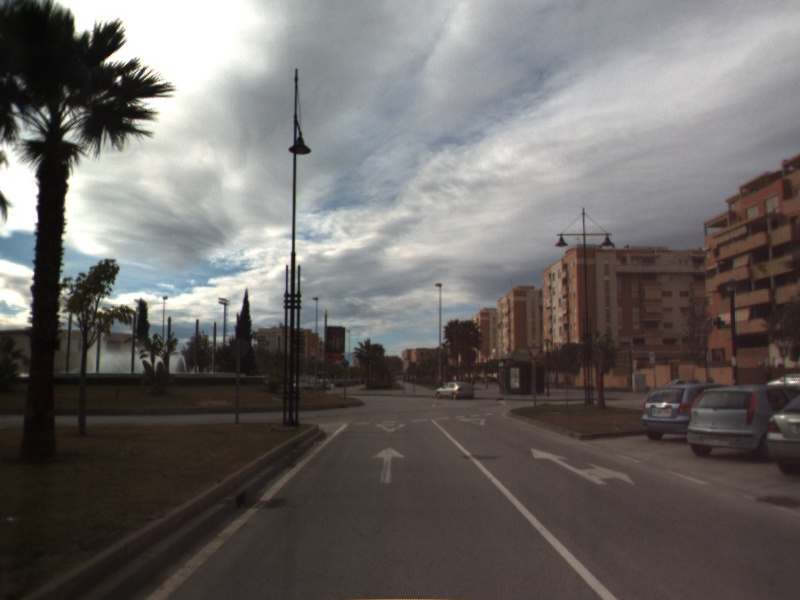STRAIGHT: (370, 445, 407, 485)
STRAIGHT_RIGHT: (530, 446, 636, 487)
